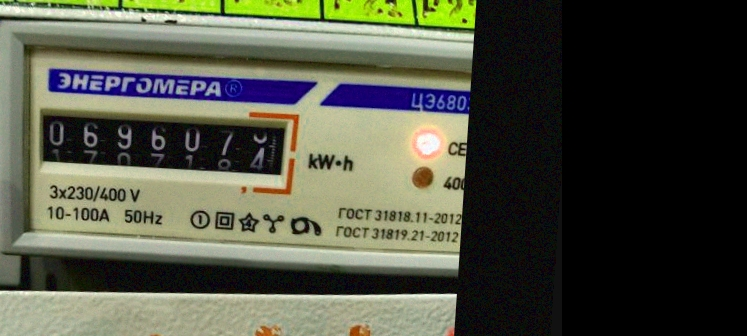0: (181, 122, 201, 153), (46, 117, 65, 146)
4: (247, 141, 266, 172)
6: (148, 121, 167, 151), (80, 118, 99, 147)
7: (215, 125, 236, 158)
9: (113, 121, 133, 150)
screen: (22, 92, 304, 194)
